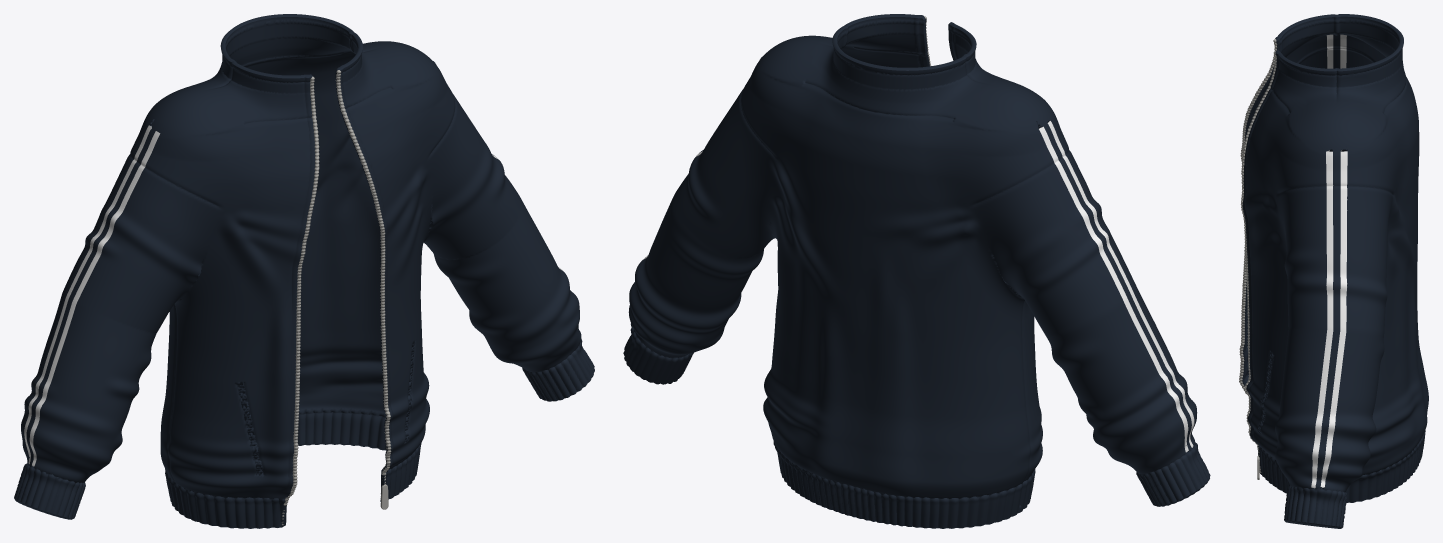
Rendered from 08_chaqueta_chandal_abierta.glb.
The picture shows the model from 3 angles, left to right: view 1: azimuth 30°, elevation 25°; view 2: azimuth 150°, elevation 25°; view 3: azimuth 270°, elevation 25°; orthographic projection. The views are drawn at different scales.
Visible parts, largest first — view 1: body, zipper, trim; view 2: body, trim; view 3: body, trim, zipper.
Part boxes in pixels (box(x1,y1,x2,y2)): body: box(14, 14, 594, 528); zipper: box(281, 70, 391, 525); trim: box(24, 125, 572, 466); body: box(623, 14, 1210, 528); trim: box(642, 88, 1194, 452); body: box(1242, 14, 1428, 528); trim: box(1311, 34, 1347, 488); zipper: box(1239, 39, 1277, 479).
Bounding box in the file's own units: 0.9987 × 0.7476 × 0.3082.
